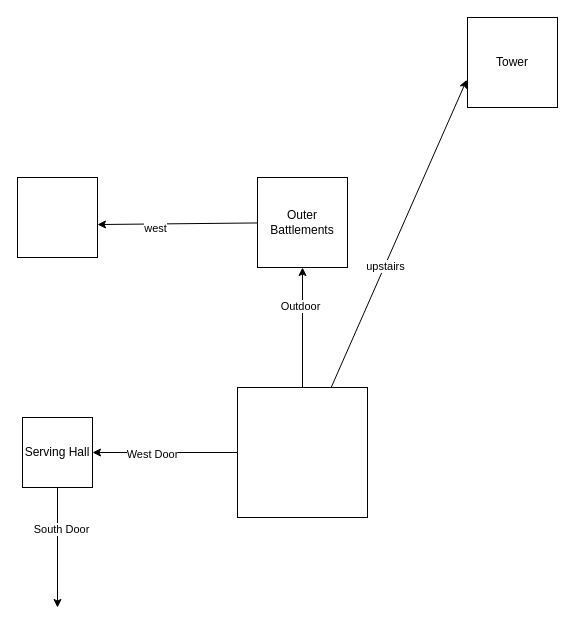
Image size: 575x633. Some labels were removed from this diagram. Each missing label, with the box of its shape:
Barracks: (236, 386, 368, 518)
Training Yard: (16, 176, 98, 258)
